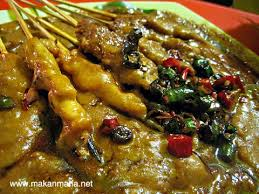sate: (2, 2, 256, 194)
